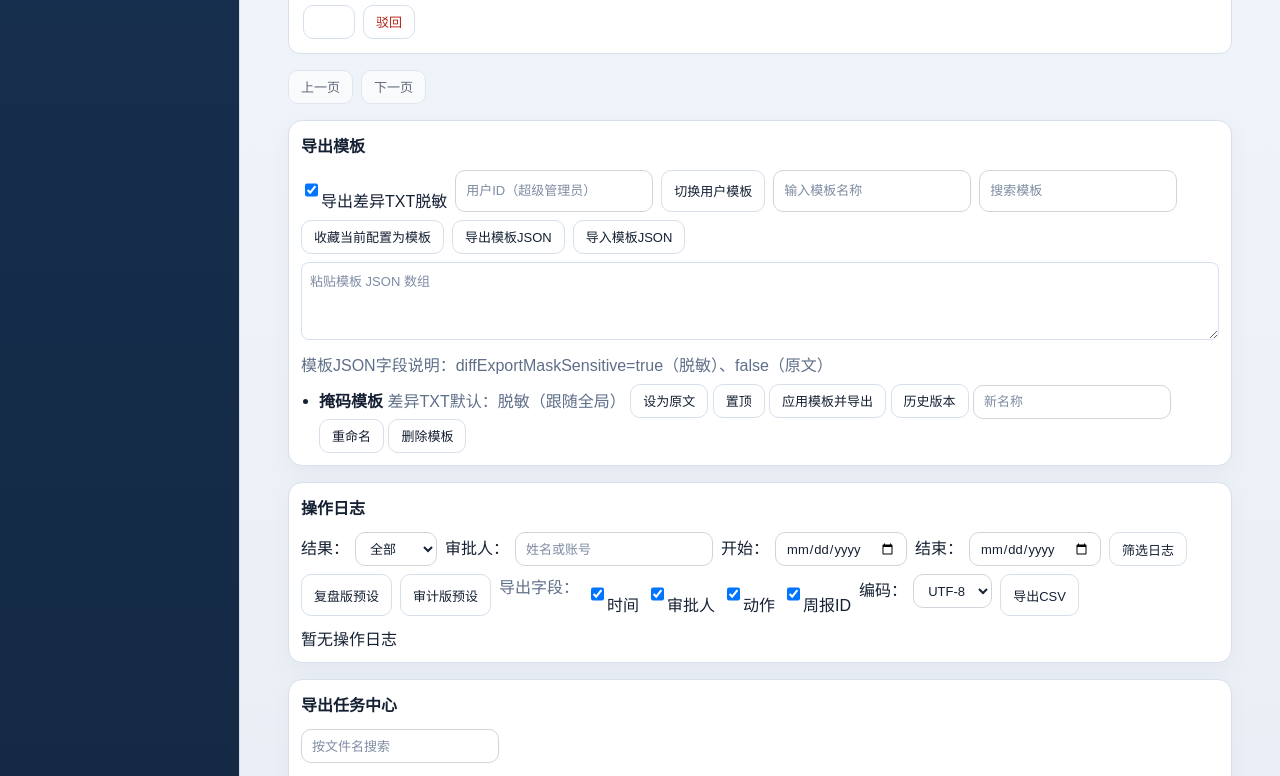
ManagerReviewsPage › supports quick toggle template diff mask default from template list
(page scrolled)
Expected: the text "掩码模板" is shown, [319,392,383,409]
Expected: the text "差异TXT默认：脱敏（跟随全局）" is shown, [388,392,626,409]
Click the button with aria-label "切换模板脱敏默认-掩码模板": (669, 401) [630,384,708,418]
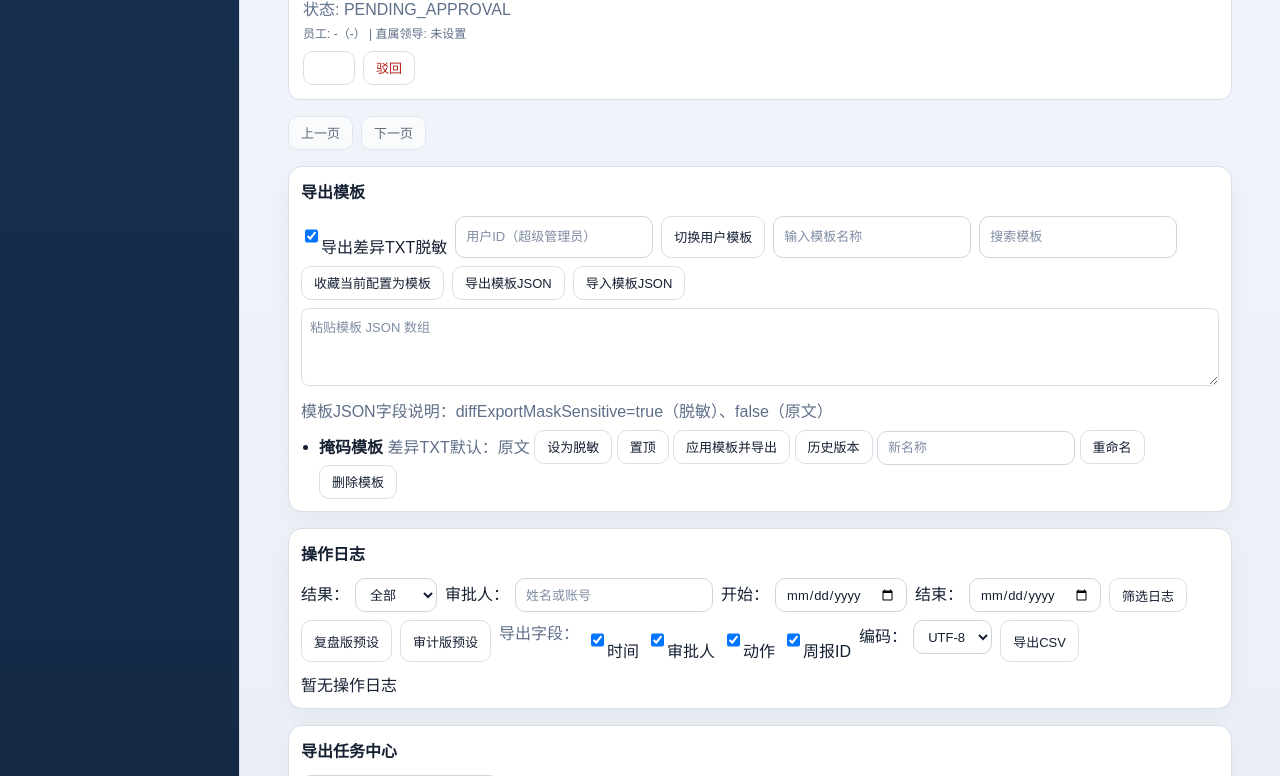
Result: the text "差异TXT默认：原文" is shown at [388,438,530,455]
Result: the button with aria-label "切换模板脱敏默认-掩码模板" reads "设为脱敏" at [534,430,612,464]
